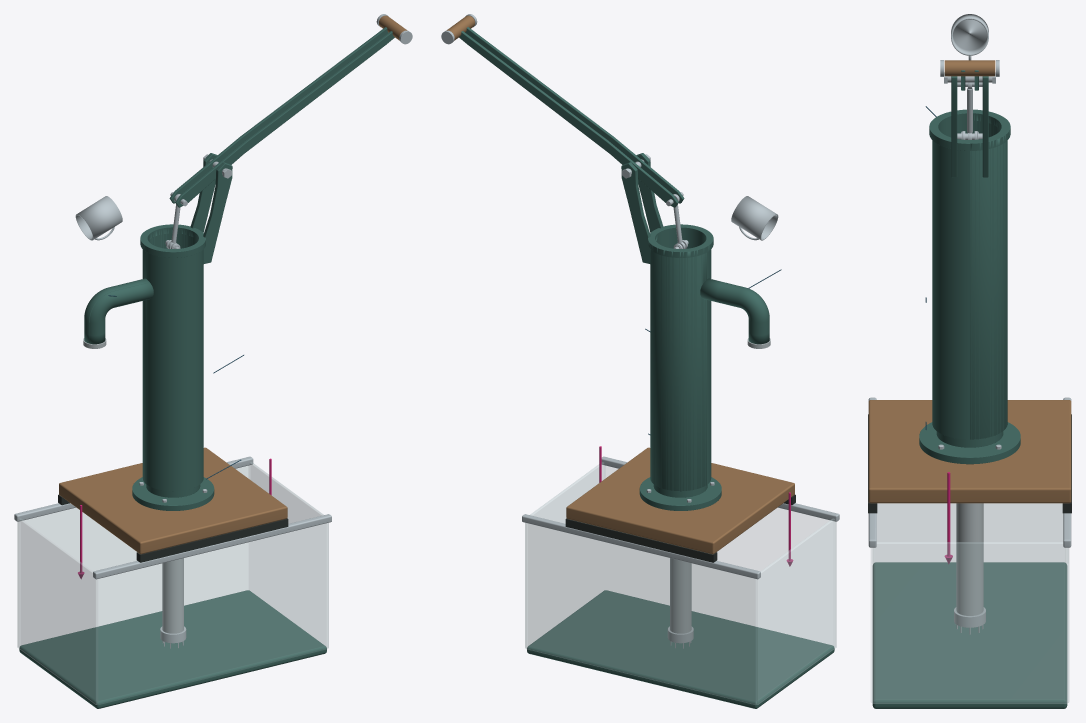
The model's file is piston-pump-v2.glb.
3 renders of one model, left to right at view 1: azimuth 30°, elevation 25°; view 2: azimuth 150°, elevation 25°; view 3: azimuth 270°, elevation 25°, orthographic. The views are drawn at different scales.
Parts seen in each view (by area): view 1: full__Reservoir transparent wall.002, cut__Reservoir bottom.002, full__Barrel | complete cast body, cut__Hardwood mounting bridge.002, cut__Reservoir end wall.004, full__Reservoir end wall.002, cut__Reservoir transparent wall.005, full__Reservoir transparent wall.003, cut__Forged lever cheek.004, cut__Forged lever cheek.005, cut__Reservoir rim.004, full__Outlet spout | hollow bent casting.001 (+13 smaller); view 2: cut__Reservoir transparent wall.005, full__Reservoir transparent wall.003, cut__Reservoir bottom.002, cut__Barrel | real 14 mm wall and front cutaway.001, cut__Hardwood mounting bridge.002, cut__Reservoir end wall.004, full__Reservoir end wall.002, full__Barrel | complete cast body, full__Reservoir transparent wall.002, cut__Forged lever cheek.005, cut__Outlet spout | hollow bent casting.002, cut__Forged lever cheek.004 (+14 smaller); view 3: cut__Reservoir end wall.005, full__Reservoir end wall.003, cut__Reservoir bottom.002, cut__Hardwood mounting bridge.002, full__Barrel | complete cast body, cut__Barrel | real 14 mm wall and front cutaway.001, cut__Reservoir end wall.004, full__Reservoir end wall.002, full__Suction riser | inner lumen.001, cut__Mounting flange | machined bore.002, cut__Suction riser | inner lumen.002, full__Upper barrel rolled rim.001 (+10 smaller).
Part boxes in pixels (x1,y1,x2,y2): full__Reservoir transparent wall.002: (97, 523, 327, 704); cut__Reservoir bottom.002: (19, 590, 326, 708); full__Barrel | complete cast body: (145, 230, 203, 491); cut__Hardwood mounting bridge.002: (59, 447, 287, 554); cut__Reservoir end wall.004: (17, 519, 96, 704); full__Reservoir end wall.002: (18, 519, 96, 704); cut__Reservoir transparent wall.005: (25, 466, 248, 570); full__Reservoir transparent wall.003: (25, 466, 247, 570); cut__Forged lever cheek.004: (175, 31, 394, 207); cut__Forged lever cheek.005: (169, 27, 388, 203); cut__Reservoir rim.004: (93, 514, 331, 579); full__Outlet spout | hollow bent casting.001: (85, 279, 153, 344); cut__Reservoir transparent wall.005: (526, 524, 755, 704); full__Reservoir transparent wall.003: (526, 524, 755, 704); cut__Reservoir bottom.002: (527, 590, 834, 708); cut__Barrel | real 14 mm wall and front cutaway.001: (650, 241, 706, 491); cut__Hardwood mounting bridge.002: (566, 447, 794, 554); cut__Reservoir end wall.004: (757, 519, 836, 704); full__Reservoir end wall.002: (757, 519, 835, 704); full__Barrel | complete cast body: (652, 230, 711, 490); full__Reservoir transparent wall.002: (604, 466, 828, 570); cut__Forged lever cheek.005: (459, 31, 678, 207); cut__Outlet spout | hollow bent casting.002: (700, 278, 769, 344); cut__Forged lever cheek.004: (465, 27, 684, 203); cut__Reservoir end wall.005: (873, 542, 1066, 703); full__Reservoir end wall.003: (873, 542, 1066, 703); cut__Reservoir bottom.002: (872, 562, 1067, 708); cut__Hardwood mounting bridge.002: (868, 400, 1071, 503); full__Barrel | complete cast body: (932, 116, 1006, 439); cut__Barrel | real 14 mm wall and front cutaway.001: (970, 121, 1007, 439); cut__Reservoir end wall.004: (877, 503, 1062, 541); full__Reservoir end wall.002: (877, 504, 1062, 541); full__Suction riser | inner lumen.001: (956, 503, 982, 615); cut__Mounting flange | machined bore.002: (919, 422, 1020, 464); cut__Suction riser | inner lumen.002: (970, 503, 983, 615); full__Upper barrel rolled rim.001: (929, 109, 1010, 150).
Bounding box in the file's own units: 1.17 × 1.86 × 0.482.
